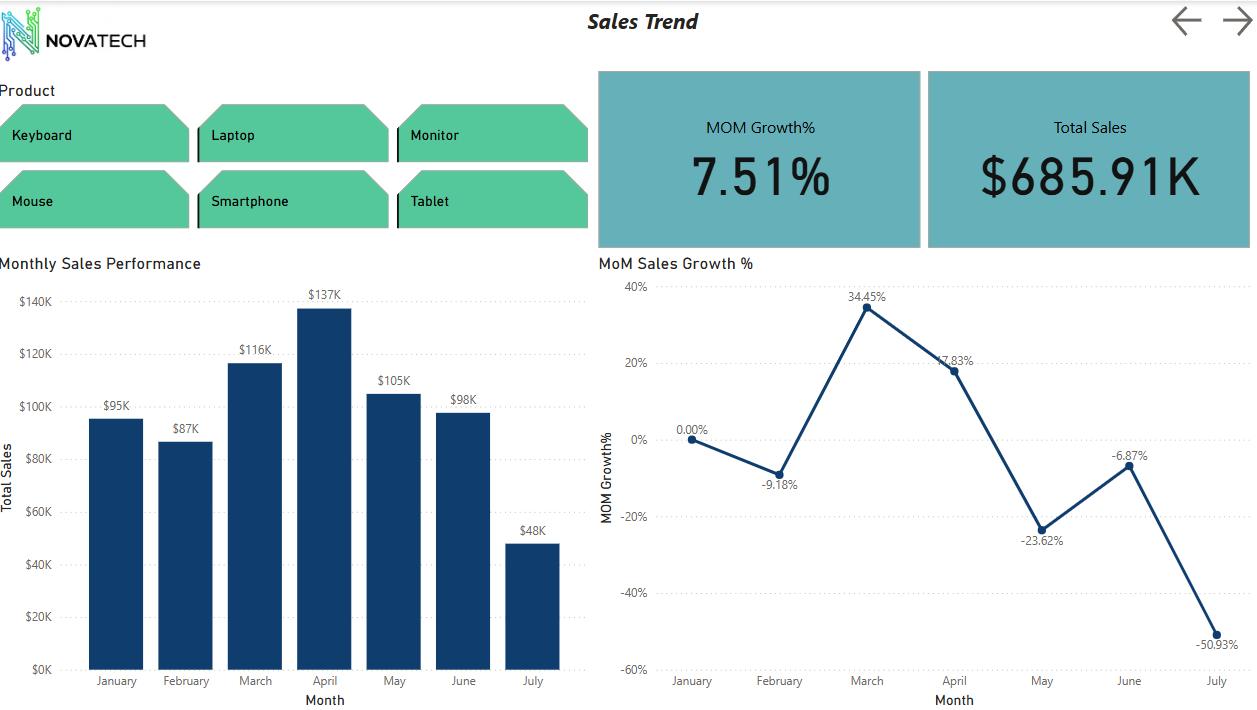

Layout of this report page (visuals, bound fields, positions):
{"tool":"powerbi","page":{"name":"Sales Trend","canvas":[1280,720],"ordinal":1},"visuals":[{"type":"columnChart","title":"Monthly Sales Performance","fields":{"Category":["Date.Date.Variation.Date Hierarchy.Month"],"Y":["Key Measures.Total Sales"]},"box":[0,256.1,608.5,464.7],"z":0},{"type":"lineChart","title":"MoM Sales Growth %","fields":{"Y":["Key Measures.MOM Growth%"],"Category":["Date.Date.Variation.Date Hierarchy.Month"]},"box":[608.5,256.1,671.8,464.7],"z":1000},{"type":"cardVisual","fields":{"Data":["Key Measures.MOM Growth%","Key Measures.Total Sales"]},"box":[608.5,66.2,671.8,189.9],"z":2000},{"type":"advancedSlicerVisual","fields":{"Values":["Product_Table.Product"]},"box":[0,81.1,608.1,156.4],"z":3000},{"type":"textbox","box":[596.6,0,147.7,47.8],"z":4000},{"type":"actionButton","box":[1240,0,40.3,40.3],"z":5000},{"type":"actionButton","box":[1189.7,0,50.3,40.3],"z":6000},{"type":"image","box":[0,0,162.2,66.6],"z":7000}]}

Visuals, with their boxes in screenshot pixels (x1, y1, x2, y2), scaled from the page's 1280x720 canvas onto the 1257x710 screenshot:
"Monthly Sales Performance" columnChart: {"left": 0, "top": 253, "right": 598, "bottom": 709}
"MoM Sales Growth %" lineChart: {"left": 598, "top": 253, "right": 1256, "bottom": 709}
cardVisual - Key Measures.MOM Growth% x Key Measures.Total Sales: {"left": 598, "top": 65, "right": 1256, "bottom": 253}
advancedSlicerVisual - Product_Table.Product: {"left": 0, "top": 80, "right": 597, "bottom": 234}
textbox: {"left": 586, "top": 0, "right": 731, "bottom": 47}
actionButton: {"left": 1218, "top": 0, "right": 1256, "bottom": 40}
actionButton: {"left": 1168, "top": 0, "right": 1218, "bottom": 40}
image: {"left": 0, "top": 0, "right": 159, "bottom": 66}
